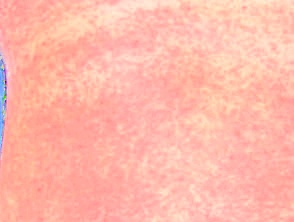SJS-TEN: (0, 1, 294, 220)
